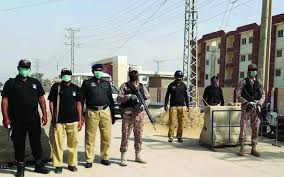gun: (125, 82, 159, 131), (240, 86, 264, 122)
uniform: (114, 77, 151, 159), (235, 69, 262, 149)
